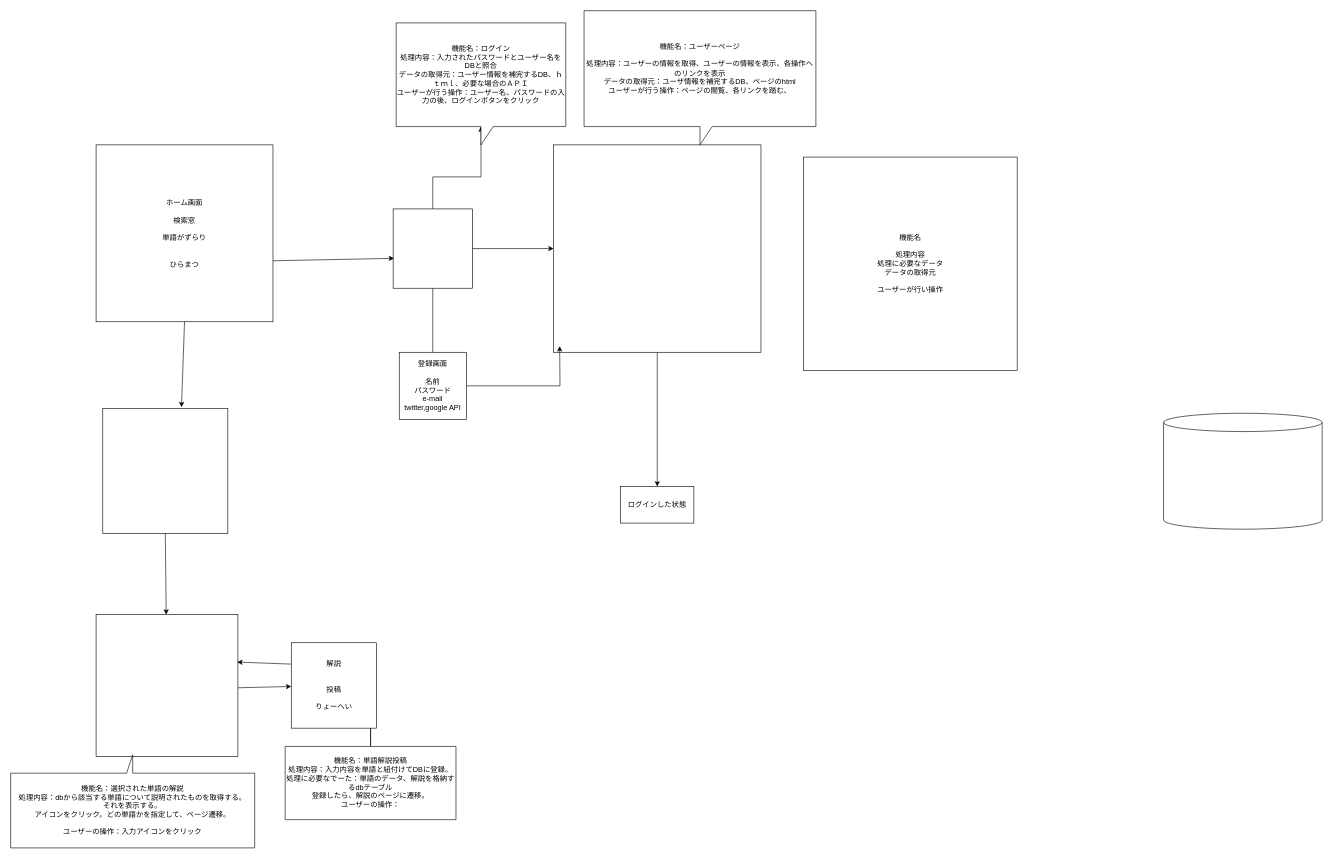
The diagram is 1333 pixels wide and 859 high, and some of its shapes have lost their labels. Here are the shapes that lost their labels. From the top down, the box of each, then its label:
(393, 208, 472, 288): ログイン パスワード ユーザー名 ひろみ
(553, 144, 761, 352): ユーザーページ ユーザー名 過去の投稿一覧 ログアウト s
(102, 408, 228, 533): 単語 解説 解説 解説 ひらまつ
(1163, 413, 1322, 529): 解説DB ・単語と紐付けするカラム（foreign key） ・ログイン機能をつけた場合、ユーザー紐付けカラム ・解説カラム(text)
(95, 614, 238, 756): 単語の解説 書き込むアイコン りょーへい
